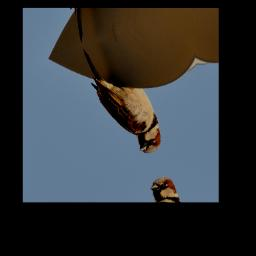Swallow: (82, 30, 166, 167)
